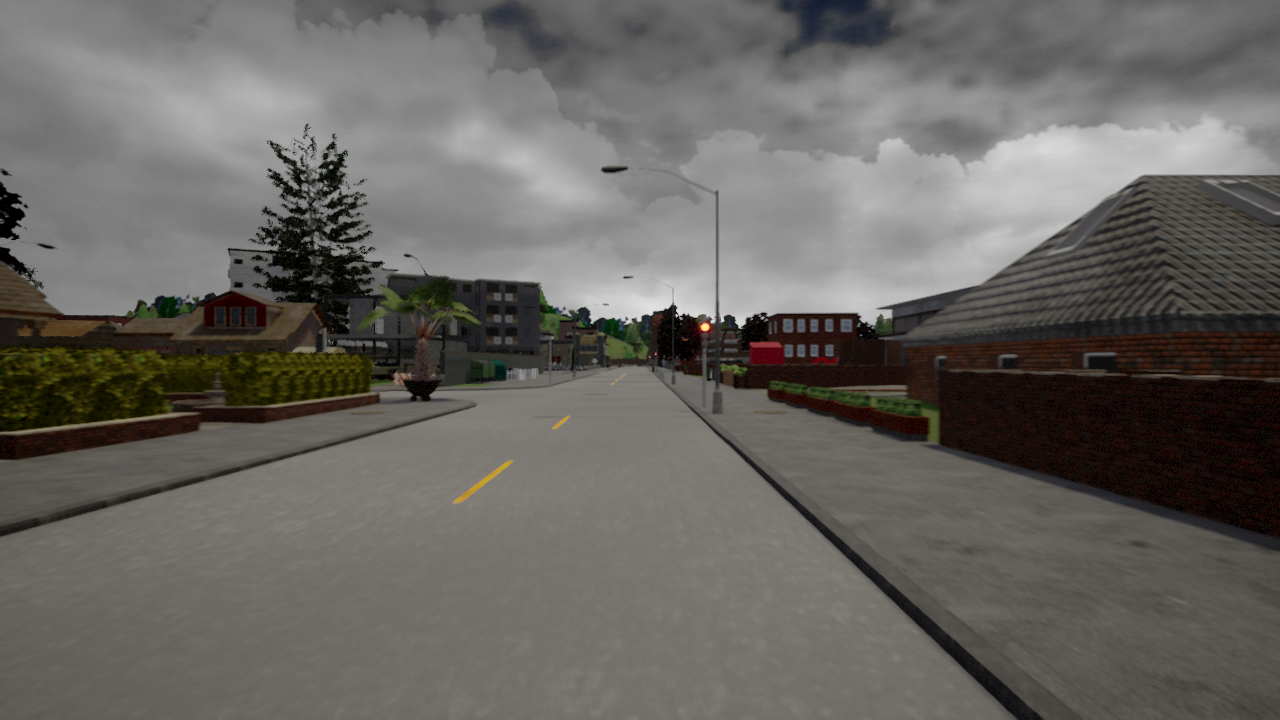red: (699, 322, 710, 350)
